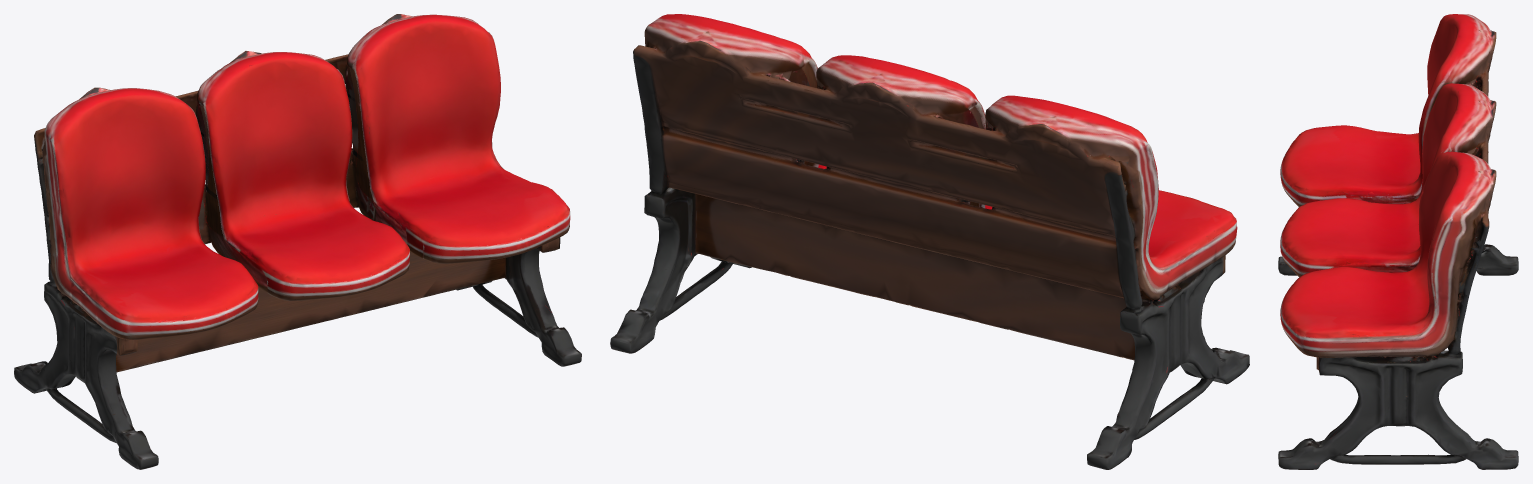
The model's file is substitute_bench.glb.
The picture shows the model from 3 angles, left to right: view 1: azimuth 30°, elevation 25°; view 2: azimuth 150°, elevation 25°; view 3: azimuth 270°, elevation 25°; orthographic projection. The views are drawn at different scales.
Bounding box in the file's own units: 1.92 × 1.16 × 0.9303.
1 material, 1 textured.
